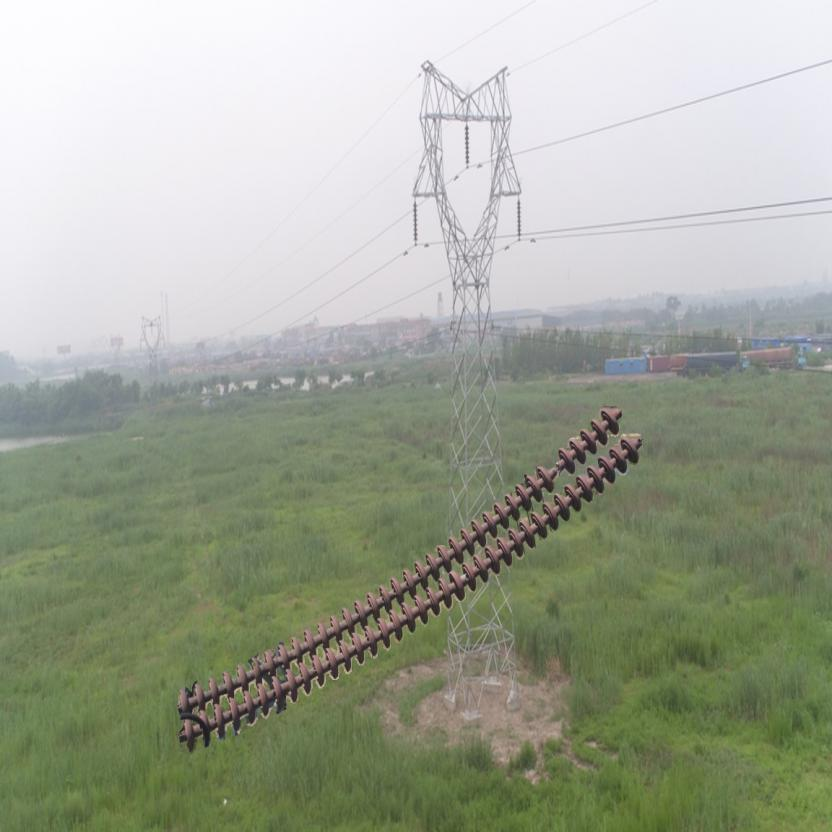defect: (534, 443, 580, 491)
